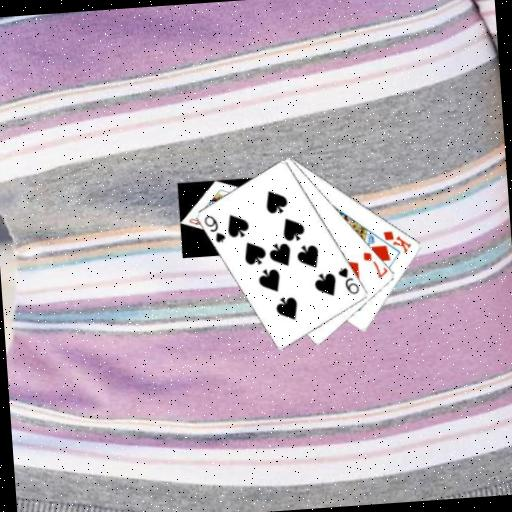7D: (360, 247, 389, 281)
9S: (336, 263, 362, 297), (201, 212, 227, 246)
KD: (380, 226, 414, 256)
